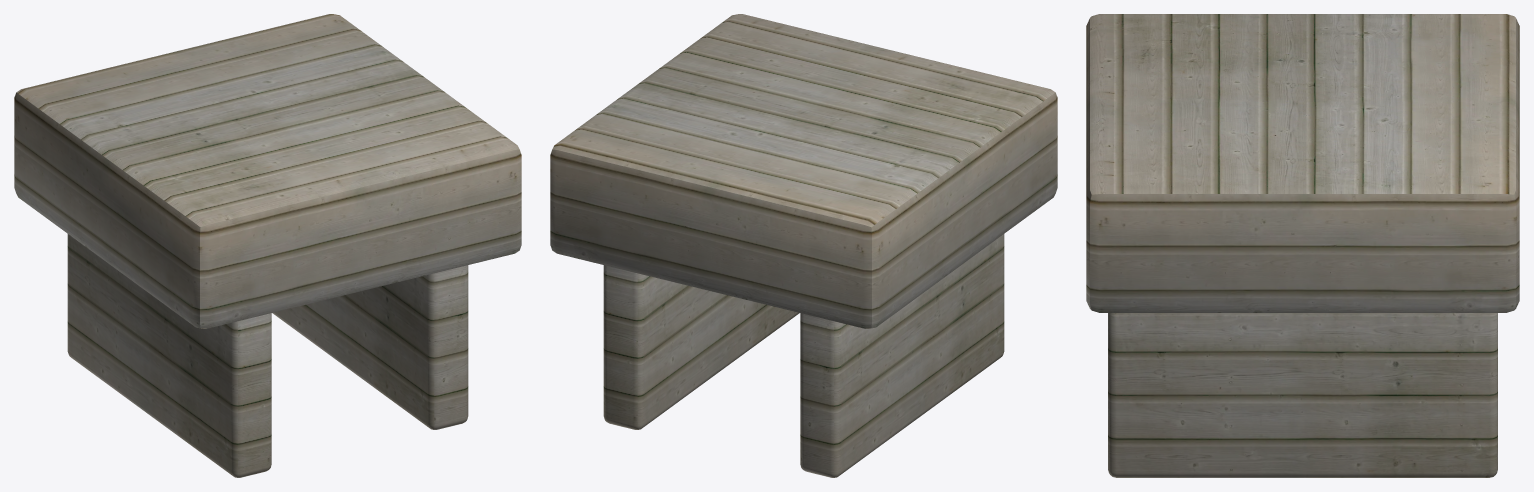
The model's file is block_bridge.glb.
3 renders of one model, left to right at view 1: azimuth 30°, elevation 25°; view 2: azimuth 150°, elevation 25°; view 3: azimuth 270°, elevation 25°, orthographic. The views are drawn at different scales.
Parts seen in each view (by area): view 1: deck, post, post.001; view 2: deck, post, post.001; view 3: deck, post.001.
Boxes of the visible parts, left/top/right/bottom form: deck: left=14, top=14, right=521, bottom=328; post: left=67, top=234, right=271, bottom=477; post.001: left=272, top=265, right=468, bottom=429; deck: left=550, top=14, right=1057, bottom=328; post: left=800, top=234, right=1004, bottom=477; post.001: left=603, top=265, right=799, bottom=429; deck: left=1086, top=14, right=1519, bottom=312; post.001: left=1108, top=313, right=1497, bottom=477.
Bounding box in the file's own units: 1 × 0.8 × 1.
1 material, 1 textured.
